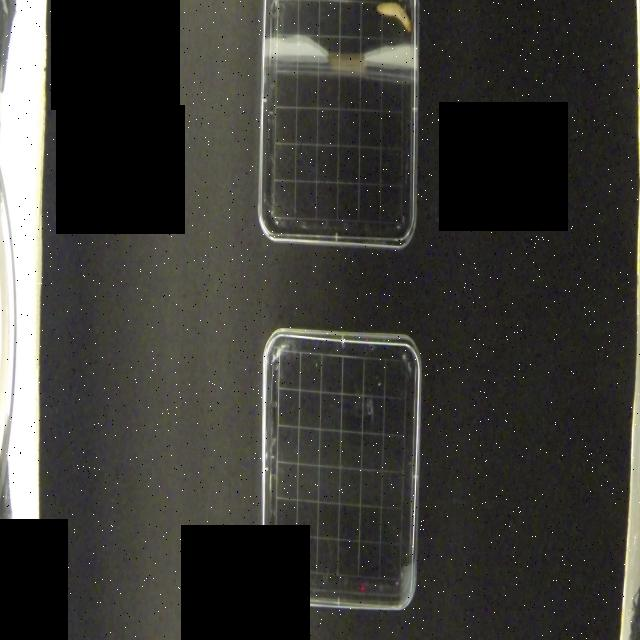larva: (375, 0, 411, 33), (269, 554, 297, 591)
